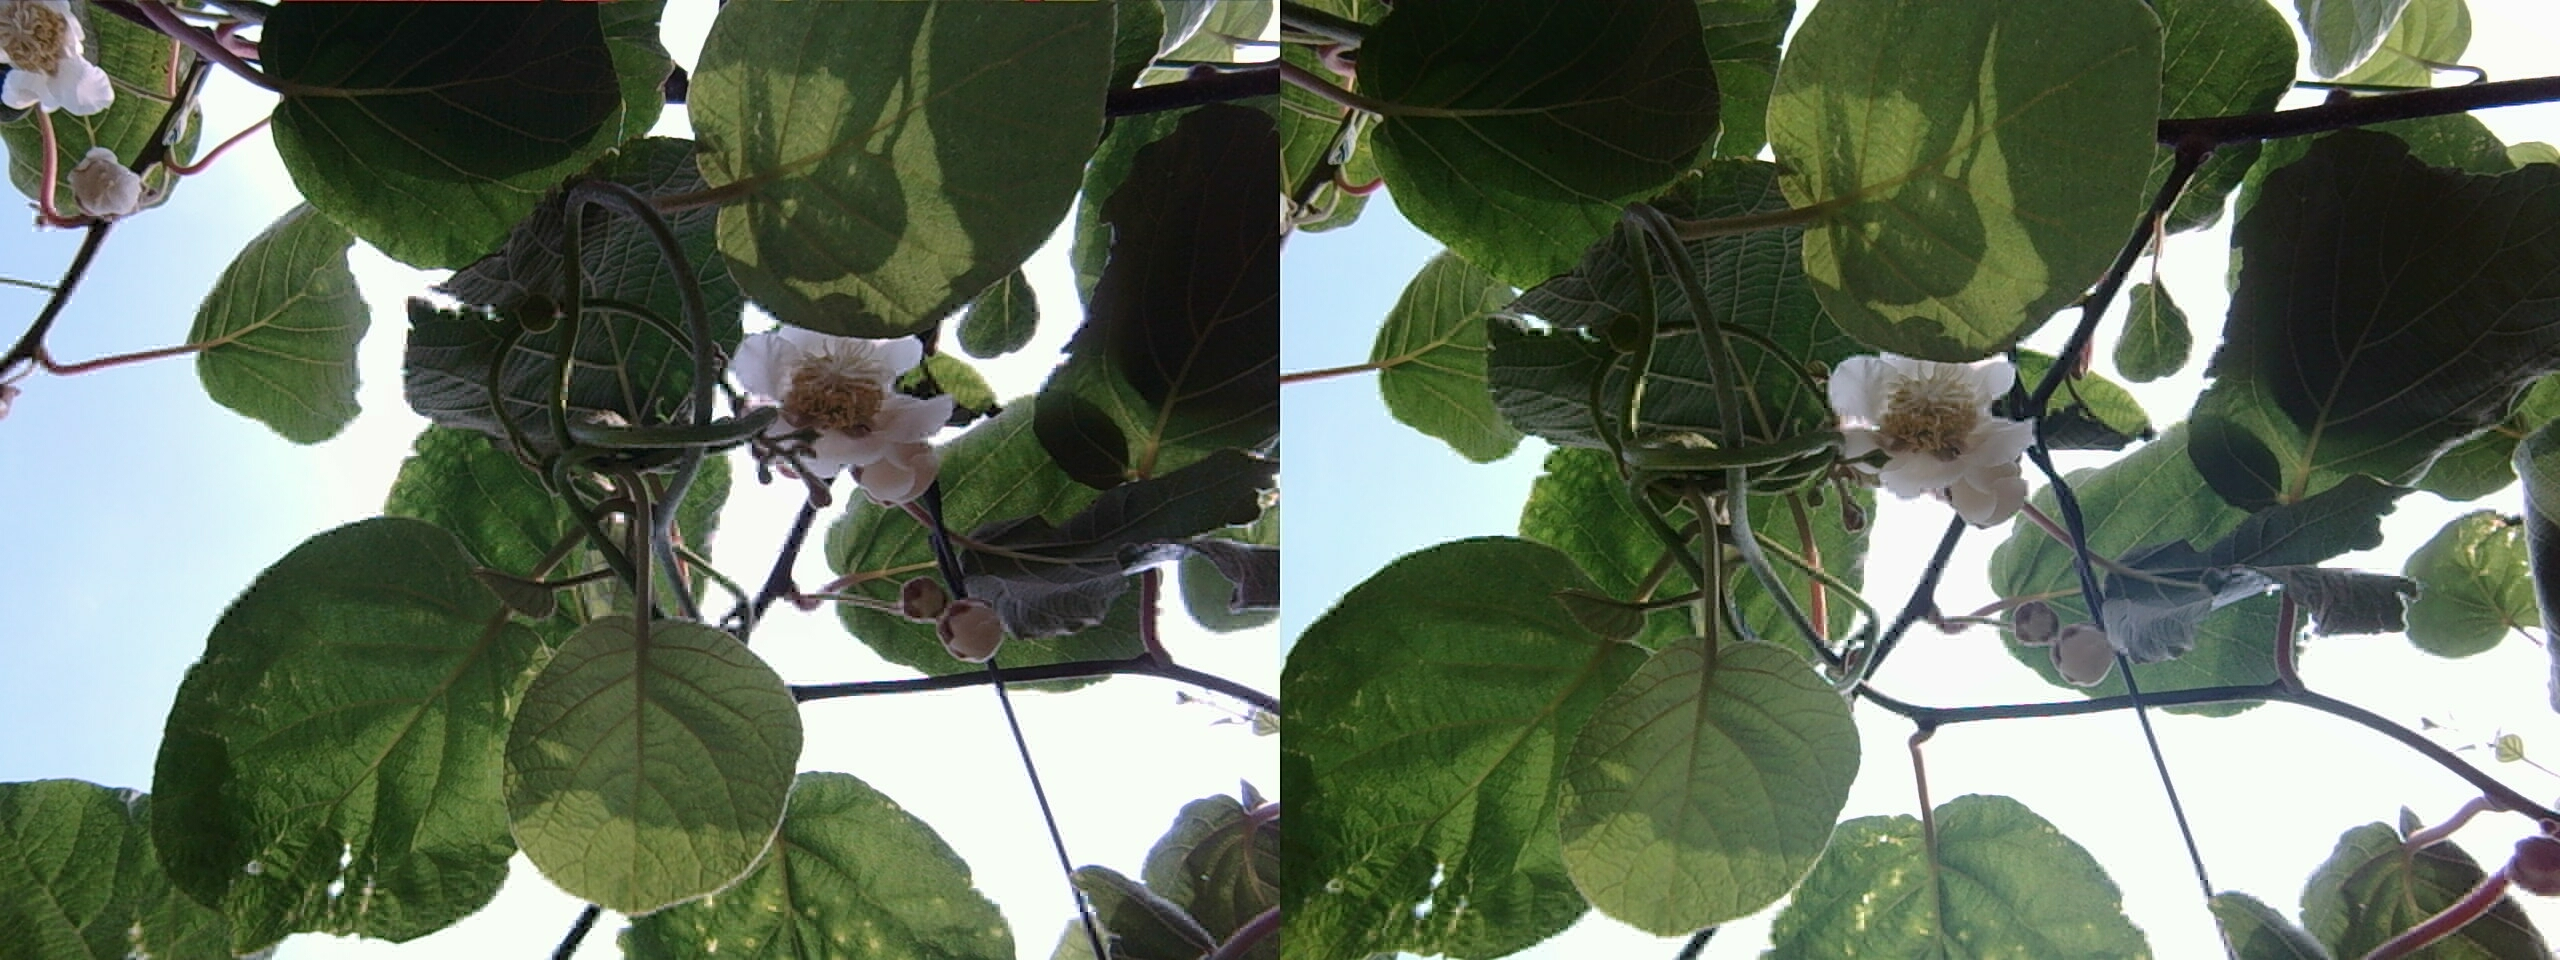flower: (1829, 343, 2033, 514), (733, 318, 944, 483), (2, 3, 108, 113)
